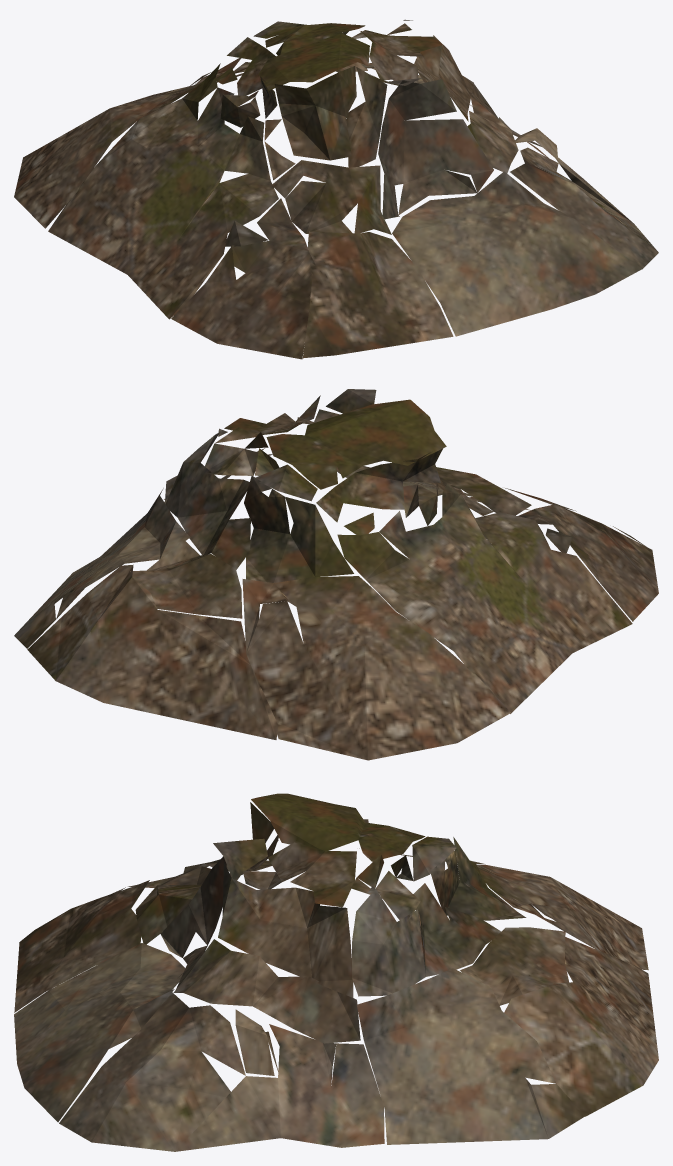
File: prop_stump.glb
3 renders of one model, top to bottom at view 1: azimuth 30°, elevation 25°; view 2: azimuth 150°, elevation 25°; view 3: azimuth 270°, elevation 25°, orthographic. The views are drawn at different scales.
Parts seen in each view (by area): view 1: hull; view 2: hull; view 3: hull.
Part boxes in pixels (<box>): hull: <box>14,19,658,359</box>; hull: <box>14,389,658,760</box>; hull: <box>14,793,658,1151</box>.
Size of the model in its own units: 1.81 by 0.725 by 2.
1 material, 1 textured.
